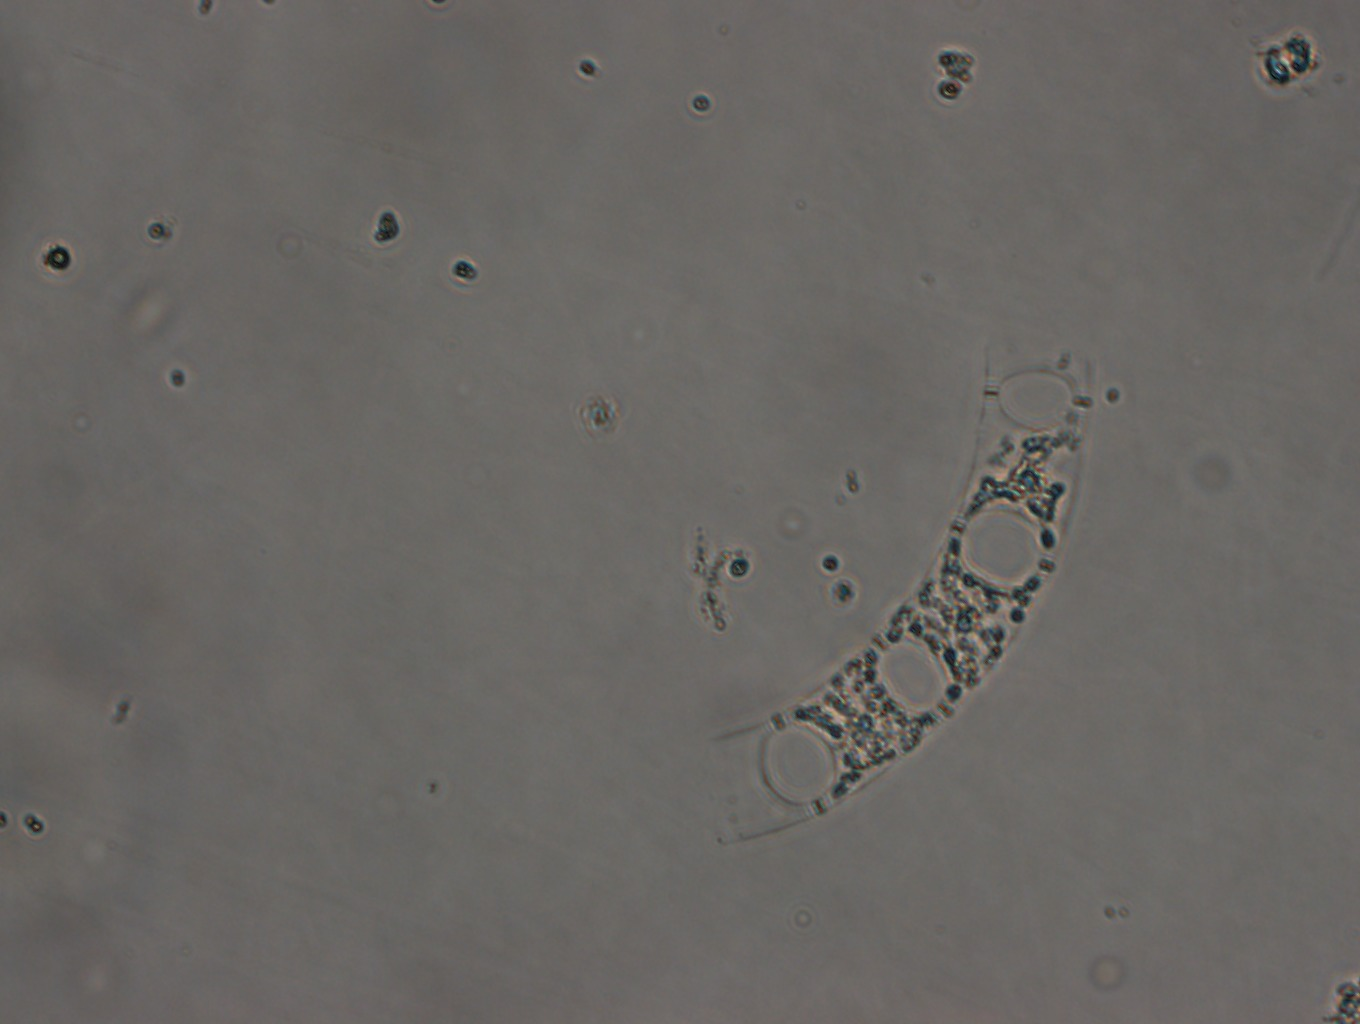eucampia: (688, 336, 1100, 864)
